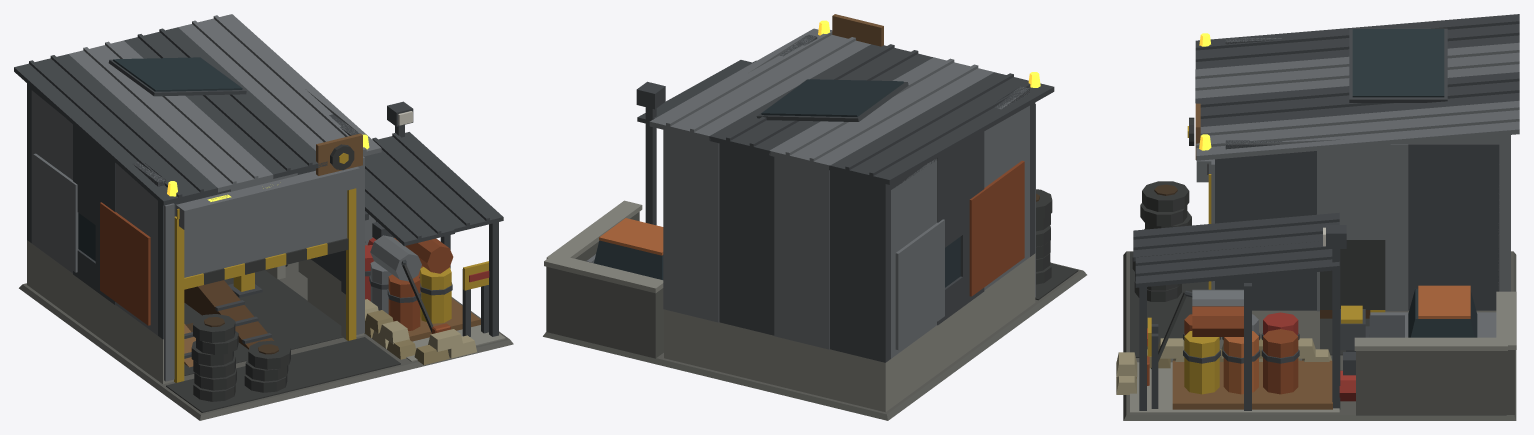
File: garage_l3.glb
The picture shows the model from 3 angles, left to right: view 1: azimuth 30°, elevation 25°; view 2: azimuth 150°, elevation 25°; view 3: azimuth 270°, elevation 25°; orthographic projection. The views are drawn at different scales.
Visible parts, largest first — view 1: garage_props, garage_roof, garage_structure; view 2: garage_structure, garage_props, garage_roof; view 3: garage_structure, garage_props, garage_roof.
Part boxes in pixels (x1,y1,x2,y2): garage_props: (33, 57, 489, 401); garage_roof: (14, 14, 503, 246); garage_structure: (19, 83, 513, 420); garage_structure: (543, 34, 1086, 420); garage_props: (544, 14, 1052, 358); garage_roof: (637, 28, 1054, 184); garage_structure: (1123, 38, 1516, 420); garage_props: (1116, 28, 1516, 415); garage_roof: (1133, 14, 1519, 287).
Size of the model in its own units: 6.07 by 4.35 by 6.16.
